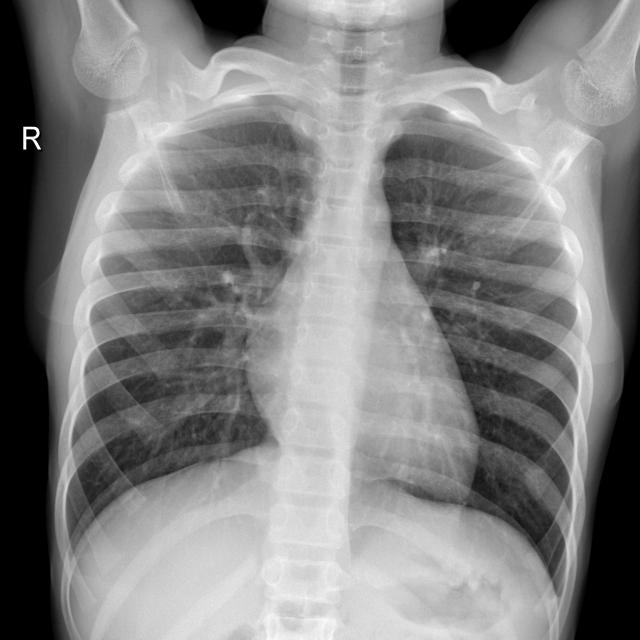no-pneumonia: (66, 105, 318, 545), (385, 115, 585, 595)
